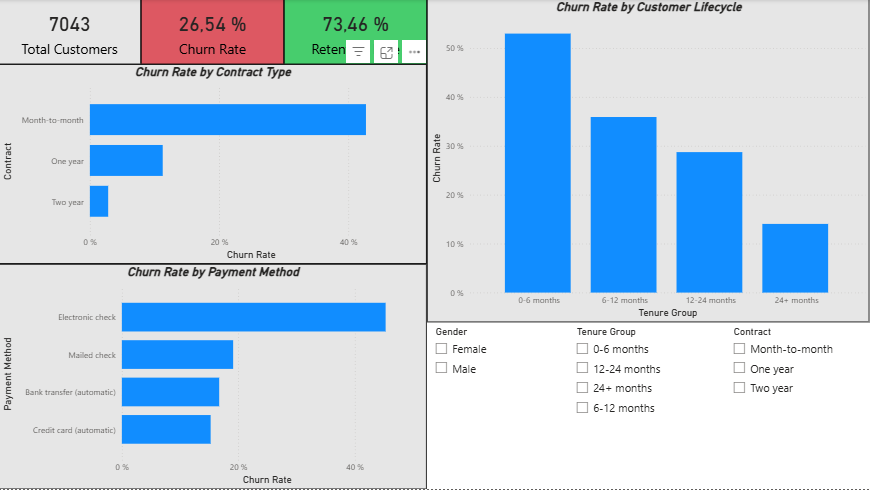

The page's visual inventory and layout, read from the dashboard file:
{"tool":"powerbi","page":{"name":"Page 1","canvas":[1280,720],"ordinal":0},"visuals":[{"type":"card","fields":{"Values":["telco_churn_clean.Total Customers"]},"box":[0,0,210,95.7],"z":0},{"type":"card","fields":{"Values":["telco_churn_clean.Churn Rate"]},"box":[210,0,210,95.7],"z":1000},{"type":"card","fields":{"Values":["telco_churn_clean.Retention Rate"]},"box":[419.9,0,210,95.7],"z":2000},{"type":"clusteredBarChart","title":"Churn Rate by Contract Type","fields":{"Y":["Avg(telco_churn_clean.churn_value)"],"Category":["telco_churn_clean.contract"]},"box":[0,95.7,629.9,294],"z":3000},{"type":"columnChart","title":"Churn Rate by Customer Lifecycle","fields":{"Category":["telco_churn_clean.Tenure Group"],"Y":["Avg(telco_churn_clean.churn_value)"]},"box":[629.9,0,650.1,475.4],"z":4000},{"type":"clusteredBarChart","title":"Churn Rate by Payment Method","fields":{"Category":["telco_churn_clean.payment_method"],"Y":["Avg(telco_churn_clean.churn_value)"]},"box":[0,389.7,629.9,330.9],"z":5000},{"type":"slicer","fields":{"Values":["telco_churn_clean.contract"]},"box":[1068.3,475.4,211.7,144.5],"z":6000},{"type":"slicer","fields":{"Values":["telco_churn_clean.Tenure Group"]},"box":[838.2,475.4,230.1,144.5],"z":7000},{"type":"slicer","fields":{"Values":["telco_churn_clean.gender"]},"box":[629.9,475.4,208.3,90.7],"z":8000}]}

Visuals, with their boxes in screenshot pixels (x1, y1, x2, y2), scaled from the page's 1280x720 canvas onto the 870x490 screenshot:
card - telco_churn_clean.Total Customers: select_region(0, 0, 143, 65)
card - telco_churn_clean.Churn Rate: select_region(143, 0, 285, 65)
card - telco_churn_clean.Retention Rate: select_region(285, 0, 428, 65)
"Churn Rate by Contract Type" clusteredBarChart: select_region(0, 65, 428, 265)
"Churn Rate by Customer Lifecycle" columnChart: select_region(428, 0, 869, 324)
"Churn Rate by Payment Method" clusteredBarChart: select_region(0, 265, 428, 489)
slicer - telco_churn_clean.contract: select_region(726, 324, 869, 422)
slicer - telco_churn_clean.Tenure Group: select_region(570, 324, 726, 422)
slicer - telco_churn_clean.gender: select_region(428, 324, 570, 385)
